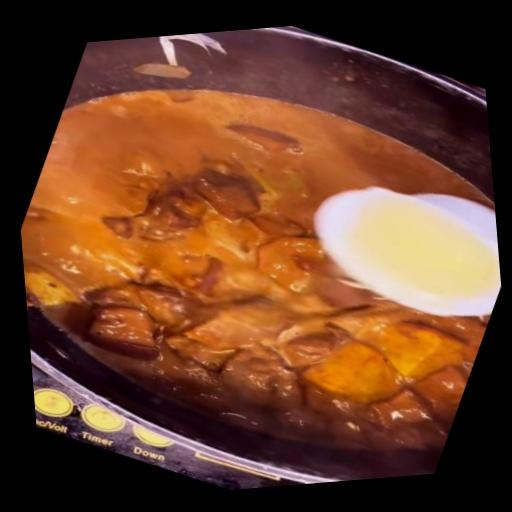pork caldereta: (12, 117, 477, 450)
